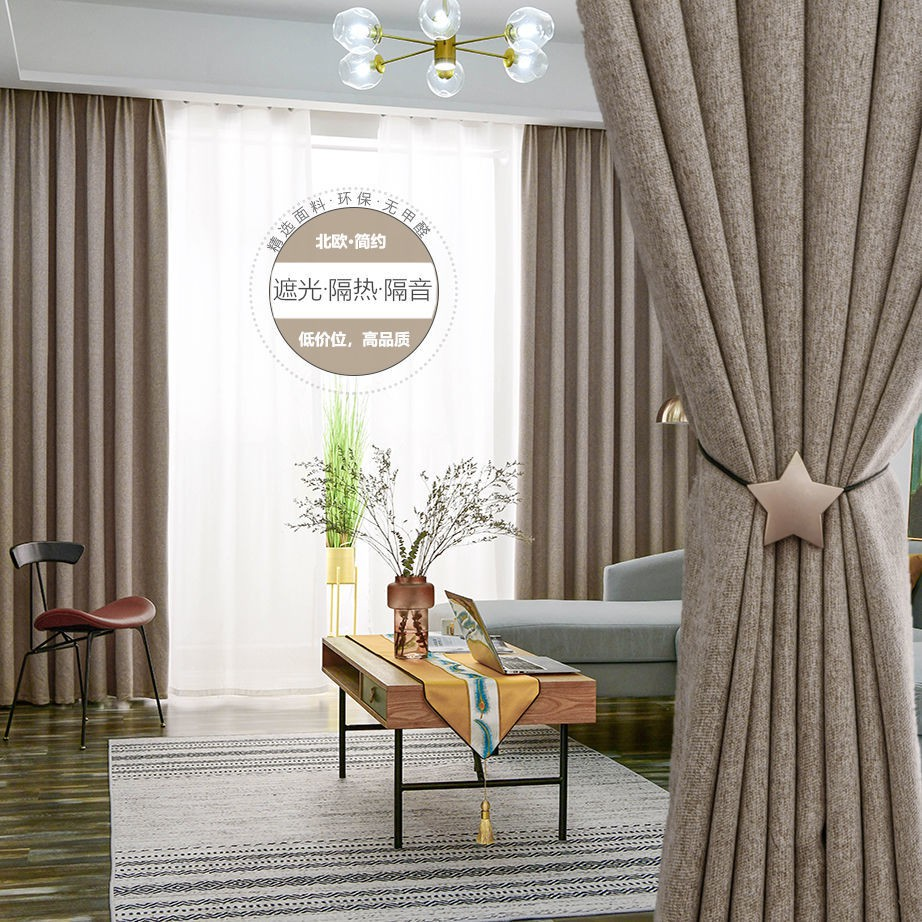kursi: (9, 531, 184, 734)
laptop: (443, 591, 583, 677)
meja: (316, 634, 594, 847)
tanaman: (290, 450, 529, 657), (312, 411, 371, 625)
